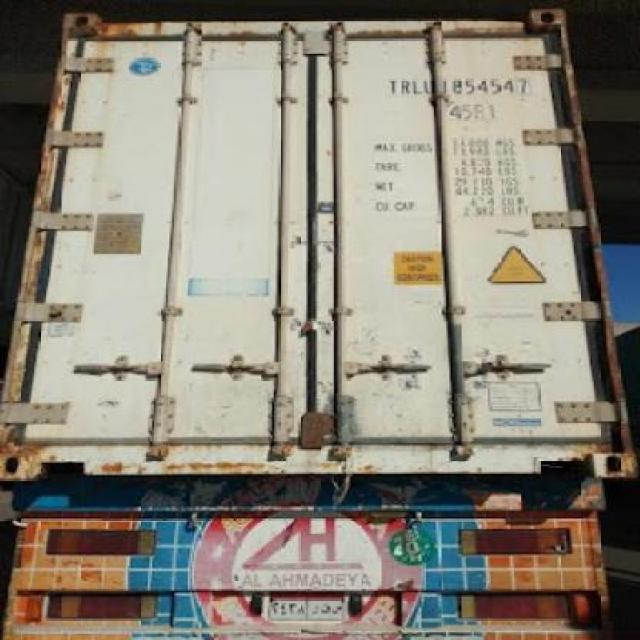ISO: (448, 96, 509, 124)
container_number: (386, 76, 542, 96)
